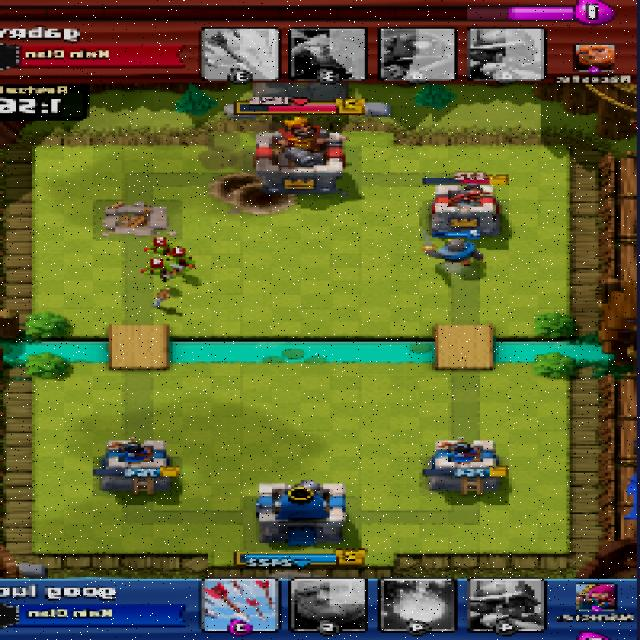Enemy-Goblin: (141, 260, 173, 281), (166, 251, 194, 270), (144, 241, 175, 258)
Player-Knight: (424, 239, 487, 268)
